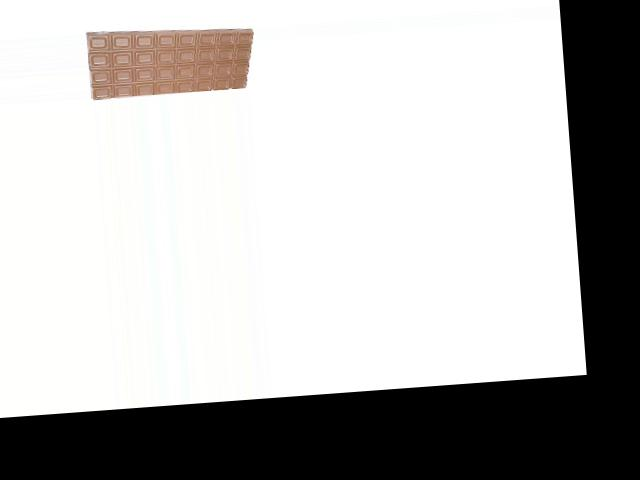chocolate: (84, 22, 259, 100)
